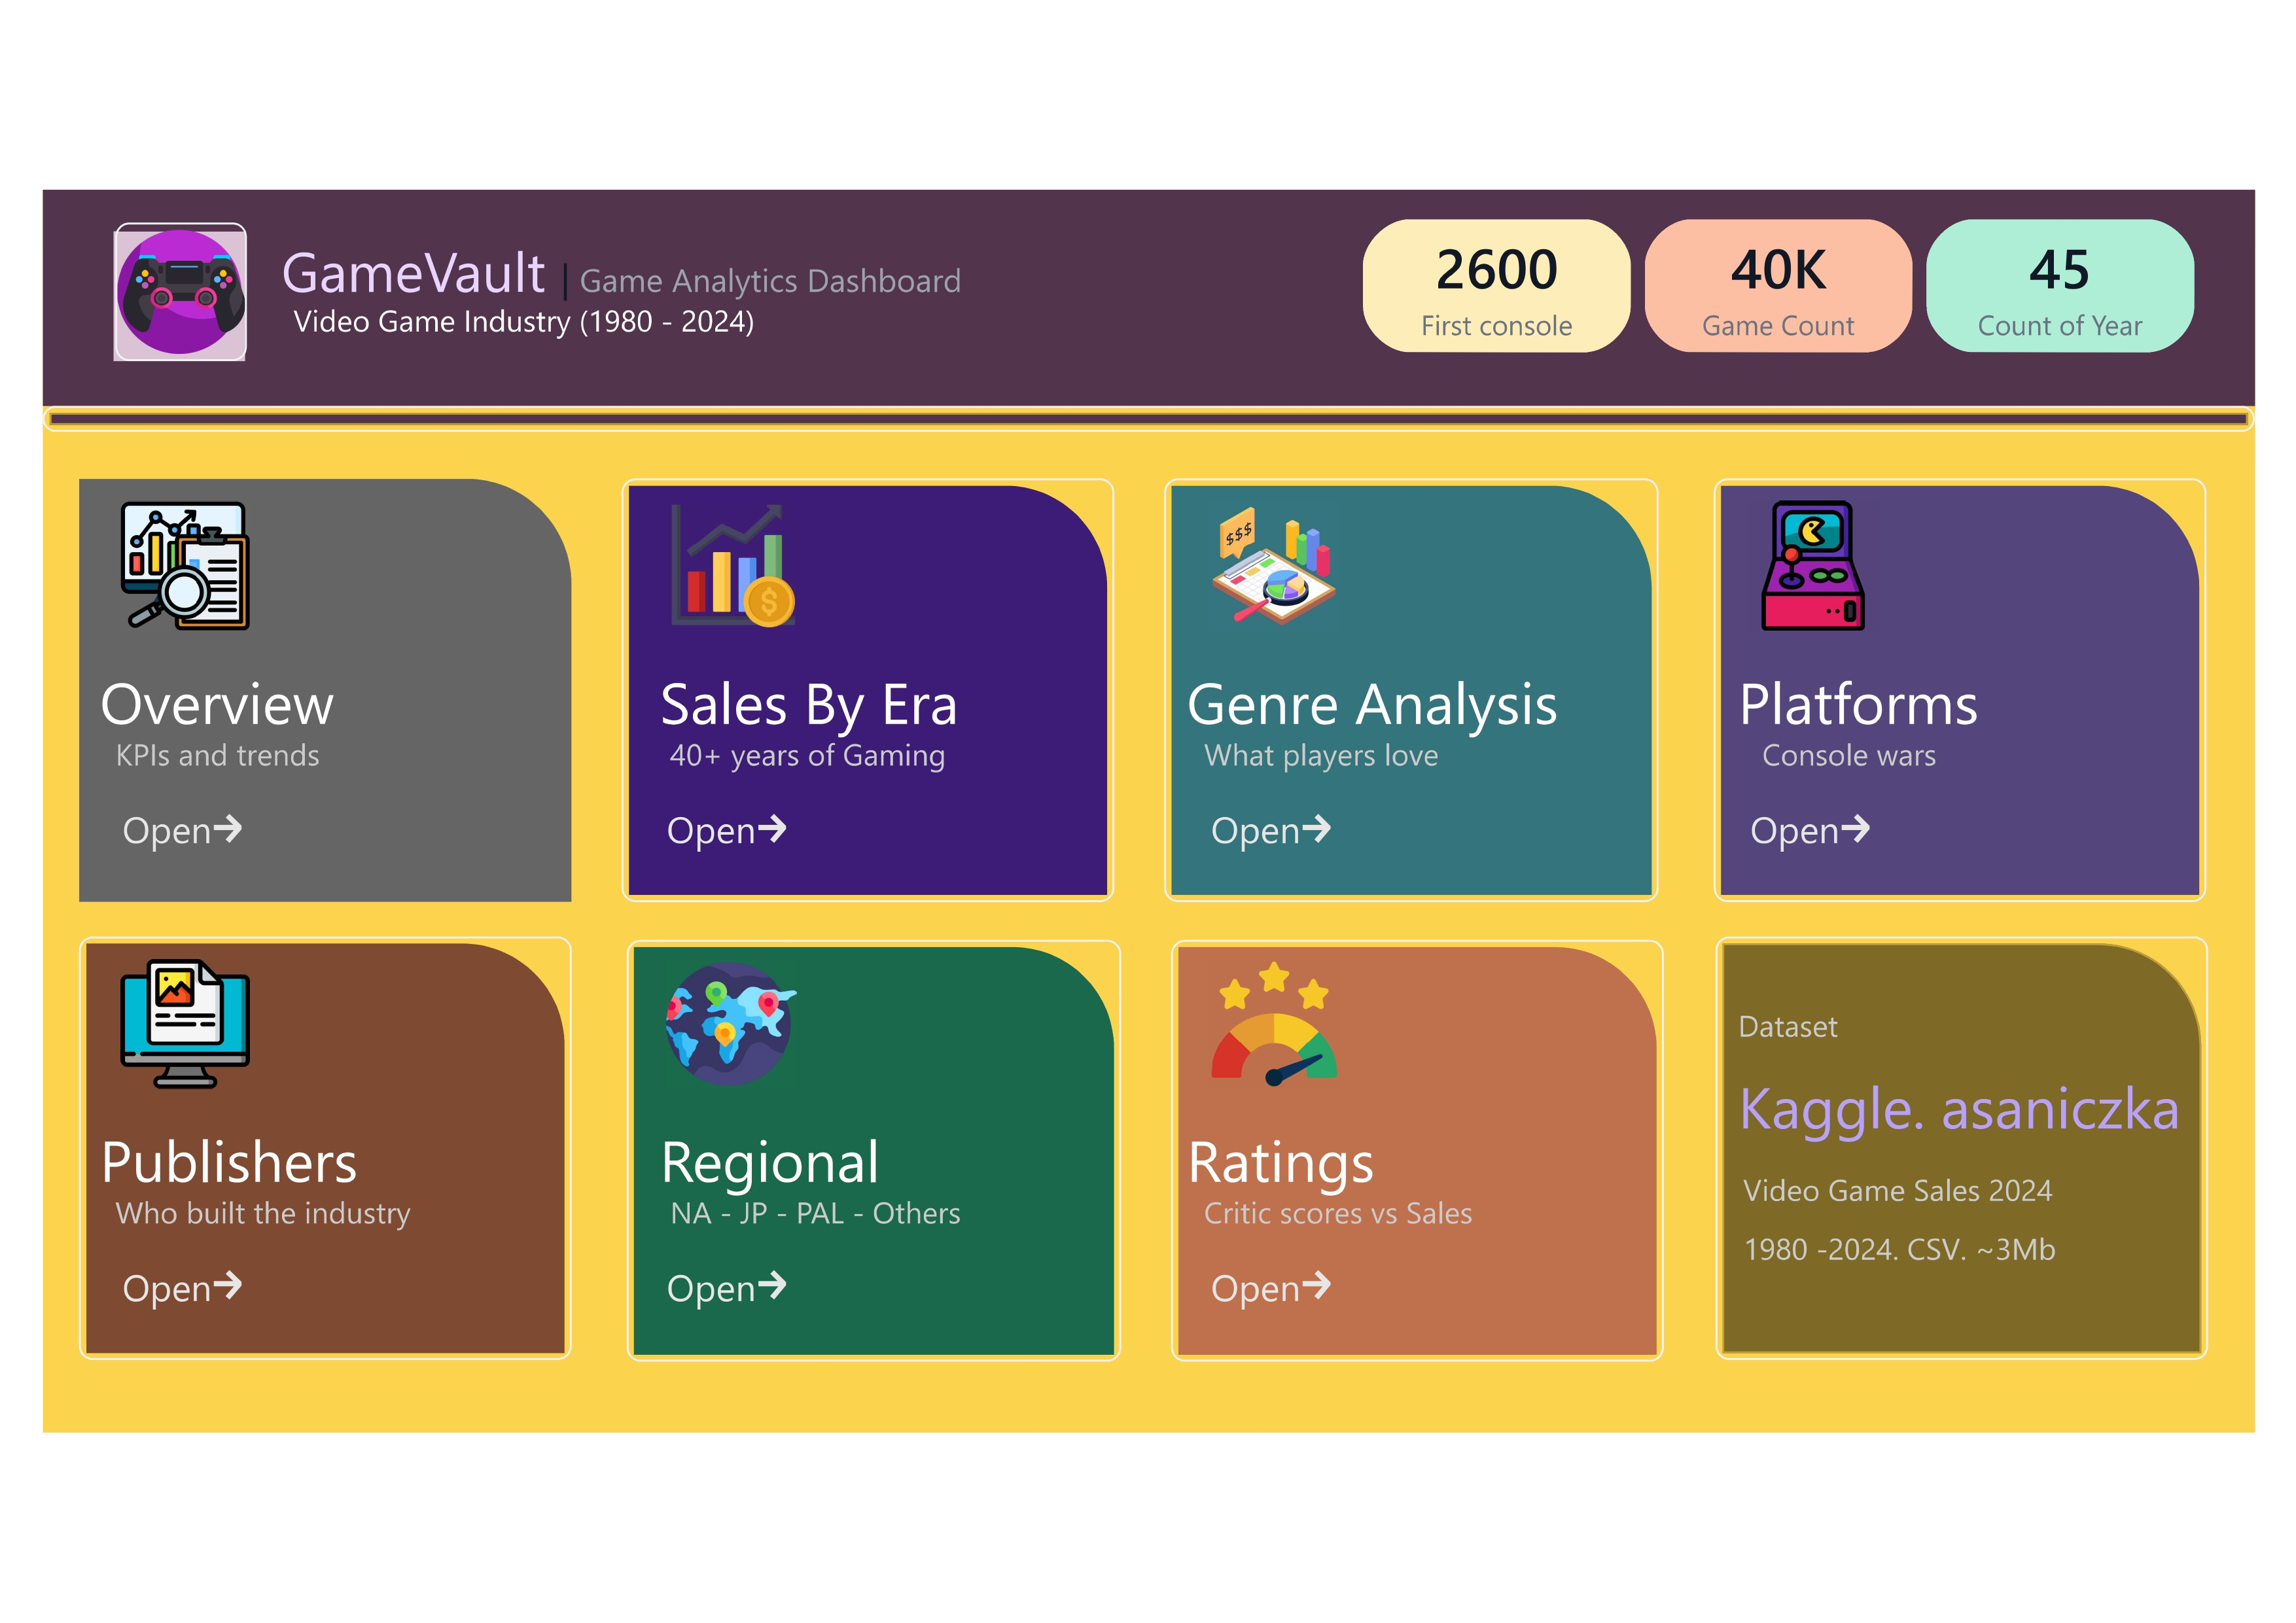

The page's visual inventory and layout, read from the dashboard file:
{"tool":"powerbi","page":{"name":"Nav","canvas":[1280,720],"ordinal":0},"visuals":[{"type":"shape","box":[0,0,1280,719.5],"z":0},{"type":"shape","box":[41,24,76.5,75.1],"z":0,"group":"g1"},{"type":"shape","box":[0,0,1280,124.8],"z":1000},{"type":"image","box":[41.9,18.8,76,79.8],"z":1000,"group":"g1"},{"type":"shape","box":[0,125.3,1280.2,14.4],"z":2000},{"type":"textbox","box":[133.3,18.8,447.7,80.3],"z":3000},{"type":"group","id":"g1","title":"logo","box":[41,18.8,76.9,80.3],"z":4000},{"type":"cardVisual","fields":{"Data":["Min(Games.console)","_Measure.Game Count","Count(DateTable.Year)"]},"box":[746.8,0,516.1,111.1],"z":5000},{"type":"shape","box":[145.3,49.6,287.1,49.6],"z":6000},{"type":"shape","box":[20.5,167.5,285.4,244.4],"z":7000},{"type":"shape","box":[335,167.5,285.4,244.4],"z":8000},{"type":"shape","box":[649.4,167.5,285.4,244.4],"z":9000},{"type":"shape","box":[967,167.5,285.4,244.4],"z":10000},{"type":"shape","box":[20.5,432.4,285.4,244.4],"z":11000},{"type":"shape","box":[338.1,433.8,285.4,244.4],"z":12000},{"type":"shape","box":[652.6,433.8,285.4,244.4],"z":13000},{"type":"shape","box":[967.7,432,285.1,244.8],"z":14000},{"type":"shape","box":[33.1,272.2,257.8,46.1],"z":15000},{"type":"shape","box":[41.8,302.4,257.8,46.1],"z":16000},{"type":"actionButton","box":[41.8,335.5,233.3,66.2],"z":17000},{"type":"image","box":[41.8,180,80.6,74.9],"z":18000},{"type":"shape","box":[357.1,272.2,257.8,46.1],"z":19000},{"type":"shape","box":[362.9,302.4,257.8,46.1],"z":20000},{"type":"actionButton","box":[357.1,335.5,233.3,66.2],"z":21000},{"type":"image","box":[358.6,180,80.6,74.9],"z":22000},{"type":"shape","box":[662.4,272.2,257.8,46.1],"z":23000},{"type":"shape","box":[672.5,302.4,257.8,46.1],"z":24000},{"type":"actionButton","box":[672.5,335.5,233.3,66.2],"z":25000},{"type":"image","box":[672.5,180,80.6,74.9],"z":26000},{"type":"shape","box":[980.6,272.2,257.8,46.1],"z":27000},{"type":"shape","box":[995,302.4,257.8,46.1],"z":28000},{"type":"actionButton","box":[983.5,335.5,233.3,66.2],"z":29000},{"type":"image","box":[983.5,180,80.6,74.9],"z":30000},{"type":"shape","box":[33,537,257.8,46.1],"z":31000},{"type":"shape","box":[41.7,567.3,257.8,46.1],"z":32000},{"type":"actionButton","box":[41.7,600.4,233.3,66.2],"z":33000},{"type":"image","box":[41.7,444.9,80.6,74.9],"z":34000},{"type":"shape","box":[357,537,257.8,46.1],"z":35000},{"type":"shape","box":[362.8,567.3,257.8,46.1],"z":36000},{"type":"actionButton","box":[357,600.4,233.3,66.2],"z":37000},{"type":"image","box":[358.5,444.9,80.6,74.9],"z":38000},{"type":"shape","box":[662.3,537,257.8,46.1],"z":39000},{"type":"shape","box":[672.4,567.3,257.8,46.1],"z":40000},{"type":"actionButton","box":[672.4,600.4,233.3,66.2],"z":41000},{"type":"image","box":[672.4,444.9,80.6,74.9],"z":42000},{"type":"shape","box":[980.6,505.4,257.8,46.1],"z":43000},{"type":"shape","box":[983.5,554.4,257.8,46.1],"z":44000},{"type":"shape","box":[980.6,459.4,257.8,46.1],"z":45000},{"type":"shape","box":[983.5,587.5,257.8,46.1],"z":46000}]}

Visuals, with their boxes on the page's 1280x720 design canvas (x1, y1, x2, y2). These are canvas units, not pixel positions in the 2296x1623 screenshot, which may show the page scaled, cropped or inside an application window:
shape: (x1=0, y1=0, x2=1280, y2=720)
shape: (x1=41, y1=24, x2=118, y2=99)
shape: (x1=0, y1=0, x2=1280, y2=125)
image: (x1=42, y1=19, x2=118, y2=99)
shape: (x1=0, y1=125, x2=1280, y2=140)
textbox: (x1=133, y1=19, x2=581, y2=99)
"logo" group: (x1=41, y1=19, x2=118, y2=99)
cardVisual - Min(Games.console) x _Measure.Game Count: (x1=747, y1=0, x2=1263, y2=111)
shape: (x1=145, y1=50, x2=432, y2=99)
shape: (x1=20, y1=168, x2=306, y2=412)
shape: (x1=335, y1=168, x2=620, y2=412)
shape: (x1=649, y1=168, x2=935, y2=412)
shape: (x1=967, y1=168, x2=1252, y2=412)
shape: (x1=20, y1=432, x2=306, y2=677)
shape: (x1=338, y1=434, x2=624, y2=678)
shape: (x1=653, y1=434, x2=938, y2=678)
shape: (x1=968, y1=432, x2=1253, y2=677)
shape: (x1=33, y1=272, x2=291, y2=318)
shape: (x1=42, y1=302, x2=300, y2=348)
actionButton: (x1=42, y1=336, x2=275, y2=402)
image: (x1=42, y1=180, x2=122, y2=255)
shape: (x1=357, y1=272, x2=615, y2=318)
shape: (x1=363, y1=302, x2=621, y2=348)
actionButton: (x1=357, y1=336, x2=590, y2=402)
image: (x1=359, y1=180, x2=439, y2=255)
shape: (x1=662, y1=272, x2=920, y2=318)
shape: (x1=672, y1=302, x2=930, y2=348)
actionButton: (x1=672, y1=336, x2=906, y2=402)
image: (x1=672, y1=180, x2=753, y2=255)
shape: (x1=981, y1=272, x2=1238, y2=318)
shape: (x1=995, y1=302, x2=1253, y2=348)
actionButton: (x1=984, y1=336, x2=1217, y2=402)
image: (x1=984, y1=180, x2=1064, y2=255)
shape: (x1=33, y1=537, x2=291, y2=583)
shape: (x1=42, y1=567, x2=300, y2=613)
actionButton: (x1=42, y1=600, x2=275, y2=667)
image: (x1=42, y1=445, x2=122, y2=520)
shape: (x1=357, y1=537, x2=615, y2=583)
shape: (x1=363, y1=567, x2=621, y2=613)
actionButton: (x1=357, y1=600, x2=590, y2=667)
image: (x1=358, y1=445, x2=439, y2=520)
shape: (x1=662, y1=537, x2=920, y2=583)
shape: (x1=672, y1=567, x2=930, y2=613)
actionButton: (x1=672, y1=600, x2=906, y2=667)
image: (x1=672, y1=445, x2=753, y2=520)
shape: (x1=981, y1=505, x2=1238, y2=552)
shape: (x1=984, y1=554, x2=1241, y2=600)
shape: (x1=981, y1=459, x2=1238, y2=506)
shape: (x1=984, y1=588, x2=1241, y2=634)
